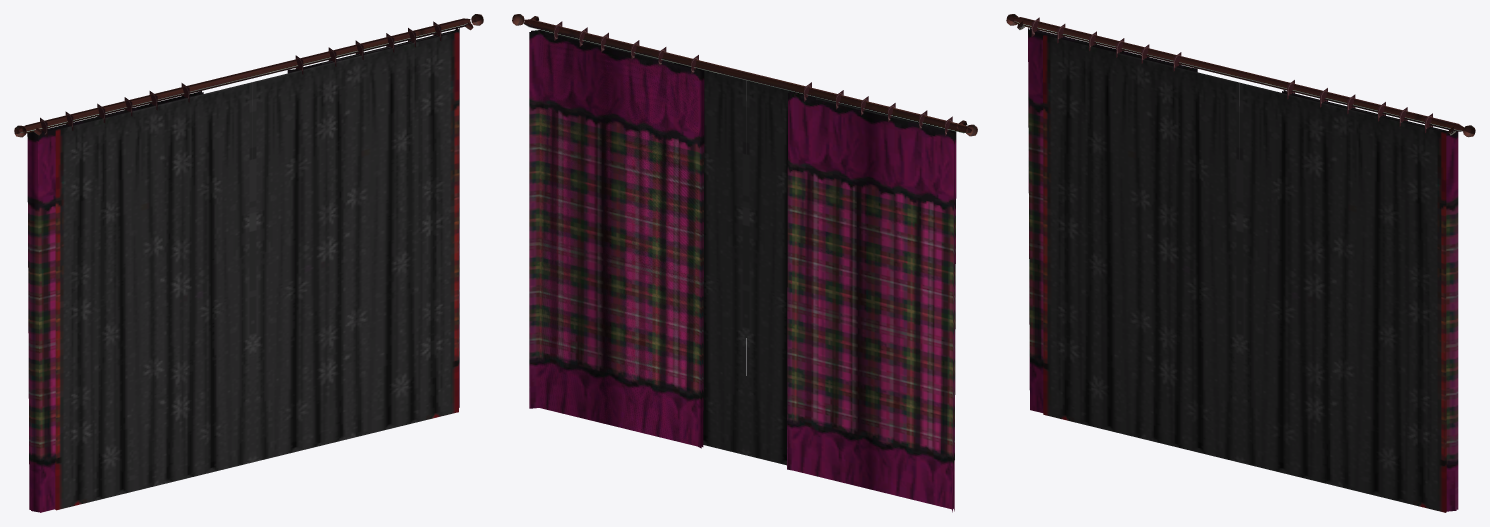
Rendered from furni_0200330.FBX.
3 views of the same model, side by side, from view 1: azimuth 30°, elevation 25°; view 2: azimuth 150°, elevation 25°; view 3: azimuth 330°, elevation 25° (orthographic).
Visible parts, largest first — view 1: furni_0200330; view 2: furni_0200330; view 3: furni_0200330.
Boxes of the visible parts, x1,y1,x2,y2 form: furni_0200330: (14,14,483,512); furni_0200330: (512,14,977,512); furni_0200330: (1006,14,1475,512).
Bounding box in the file's own units: 353 × 282 × 14.17.
2 materials, 2 textured.
